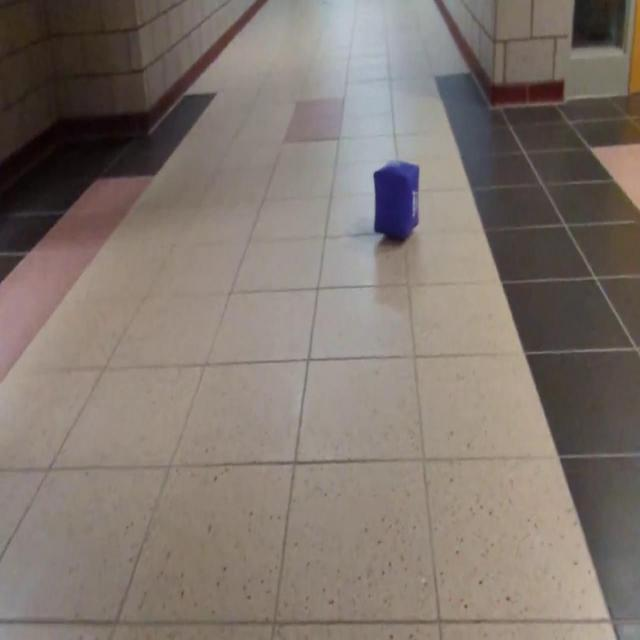frc_cube: (373, 160, 419, 242)
